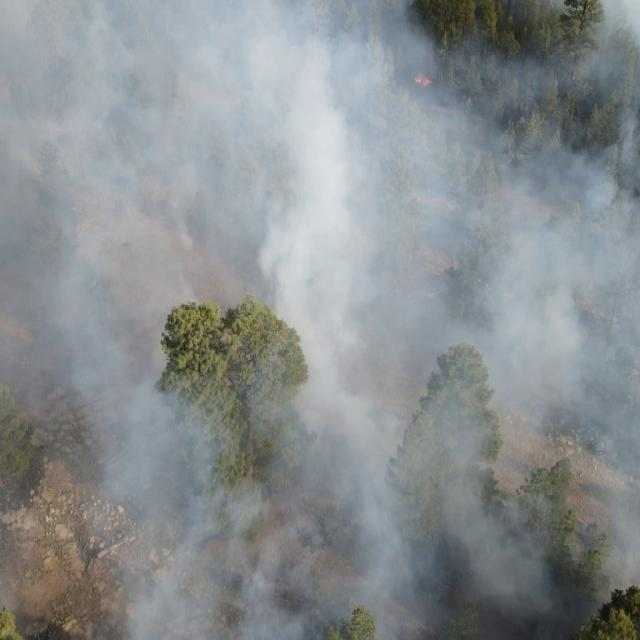fire: (412, 71, 434, 89)
smoke: (0, 0, 640, 640)
